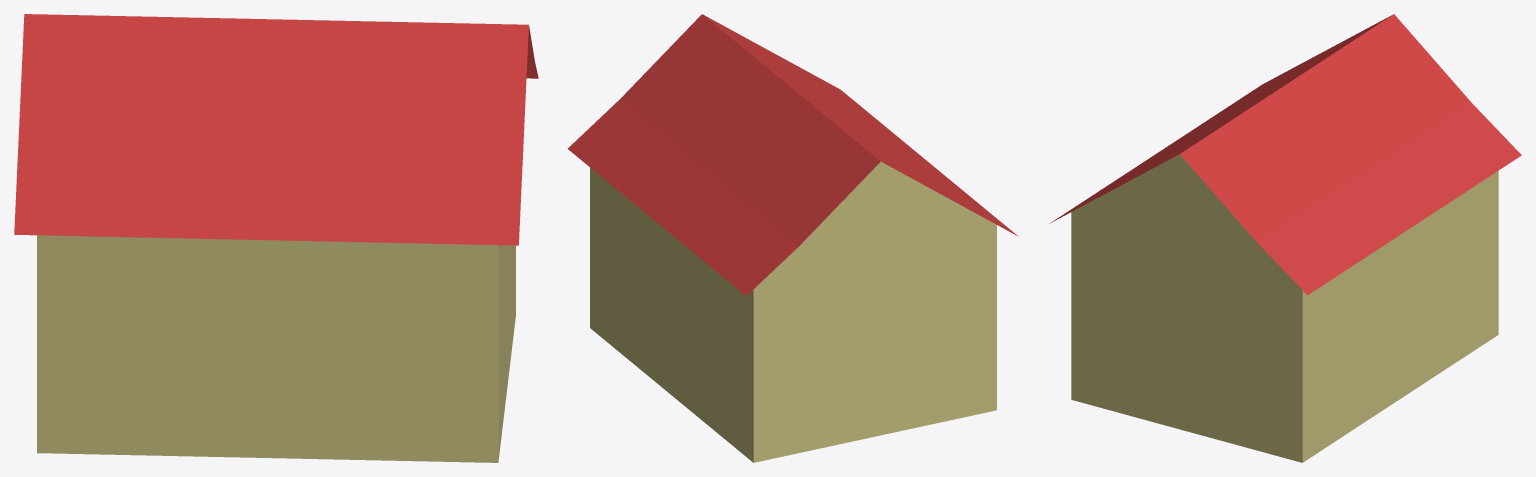
3 views of the same model, side by side, from view 1: azimuth 30°, elevation 25°; view 2: azimuth 150°, elevation 25°; view 3: azimuth 270°, elevation 25° (orthographic). The views are drawn at different scales.
Bounding box in the file's own units: 22.19 × 21.05 × 13.91.
